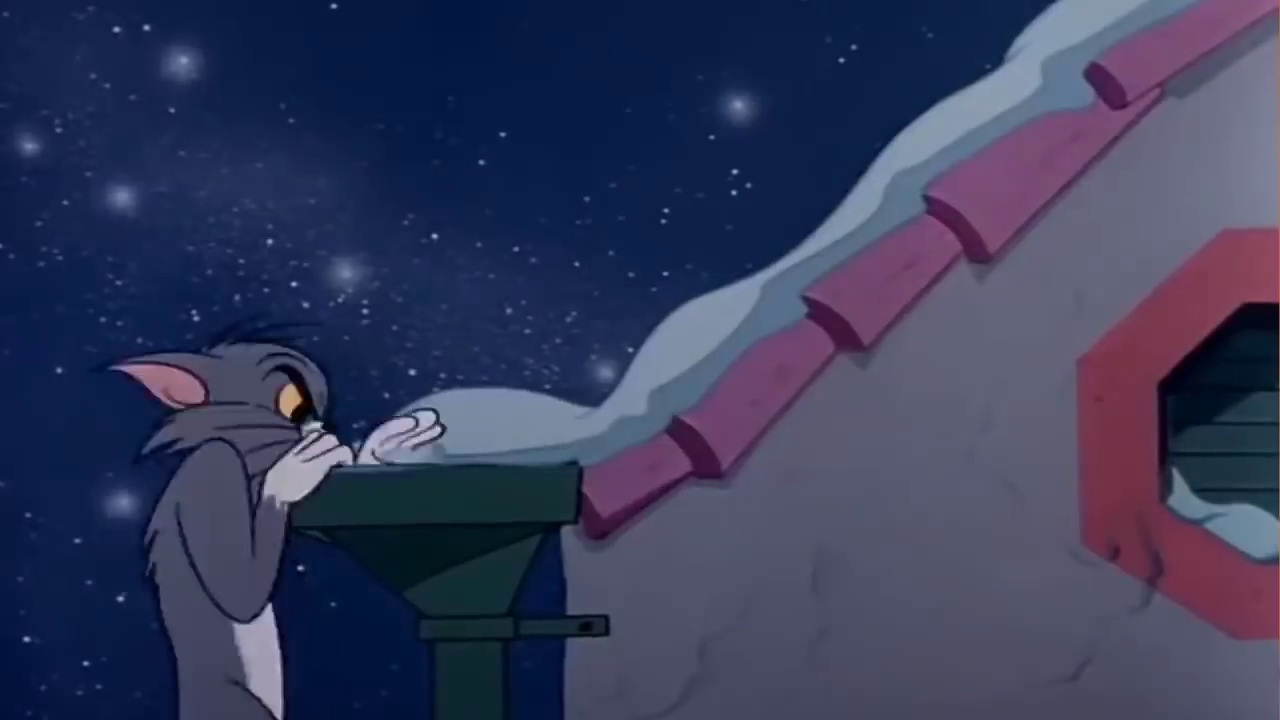face: (249, 351, 332, 469)
